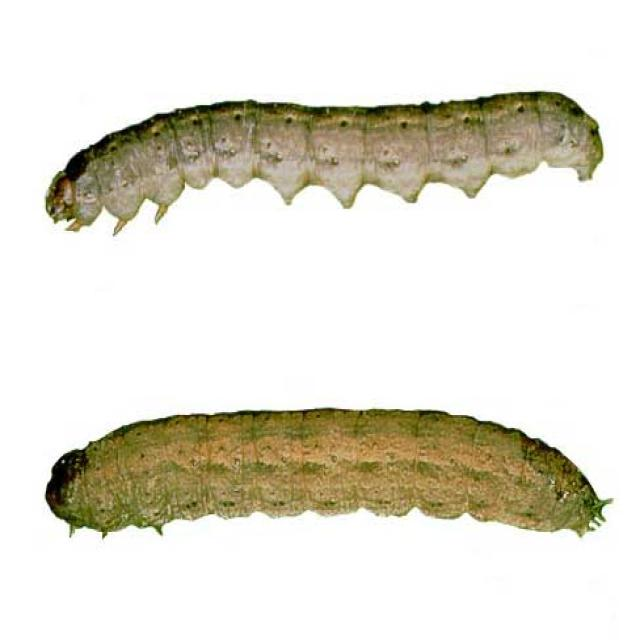Cutworm: (38, 402, 612, 575), (46, 89, 606, 246)
